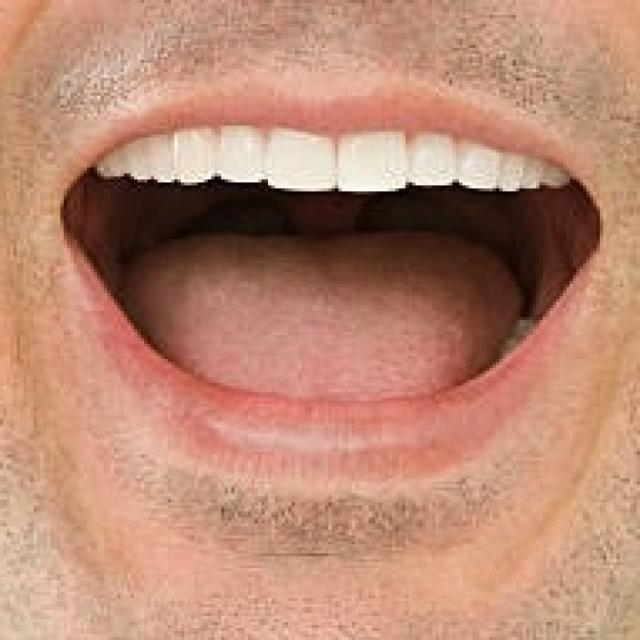open-mouth: (51, 87, 606, 487)
